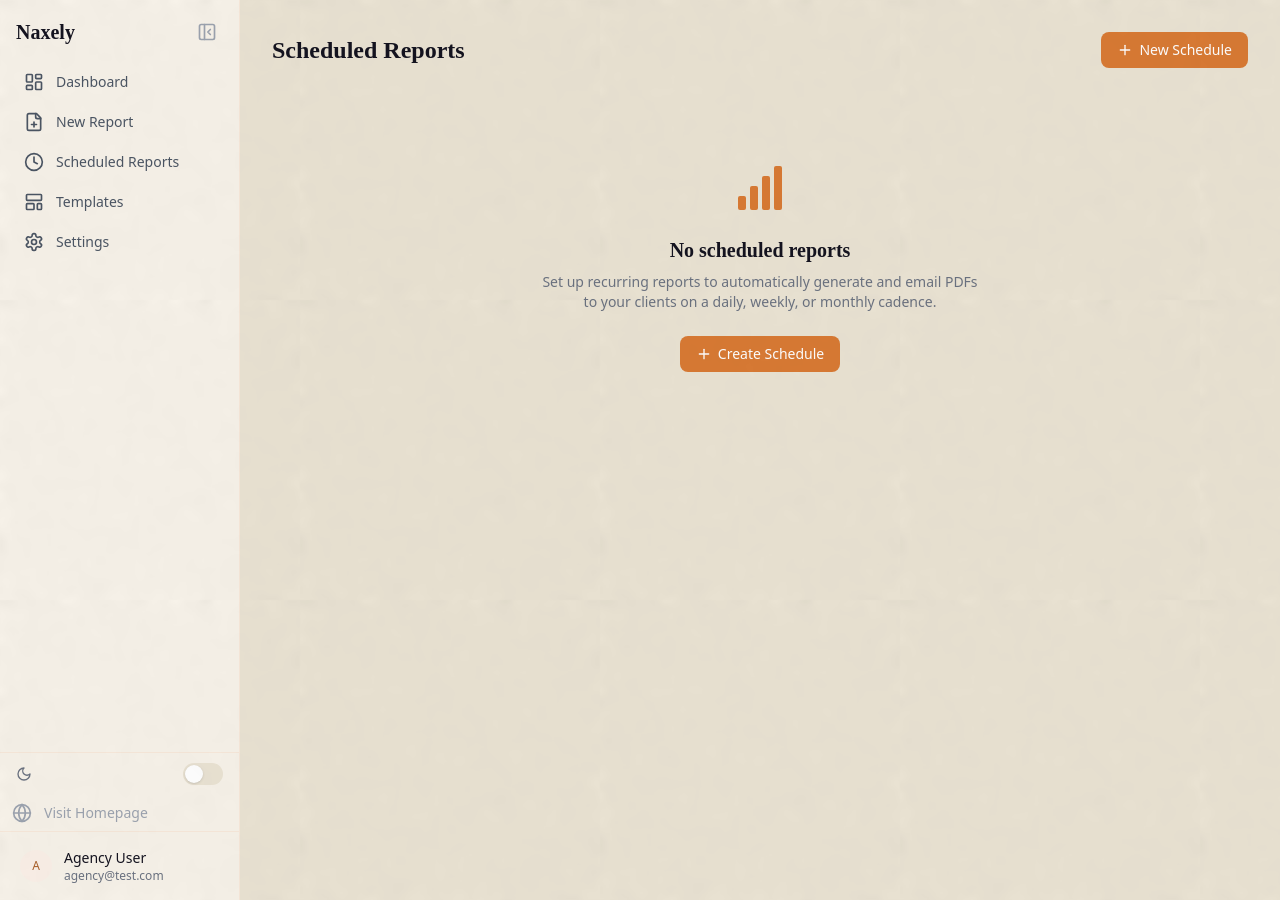
Test case: ScheduledReports › validates email format in create form
The width and height of the screenshot is (1280, 900).
Click the button "Create Schedule" at {"x": 760, "y": 354}, box [680, 336, 840, 372]
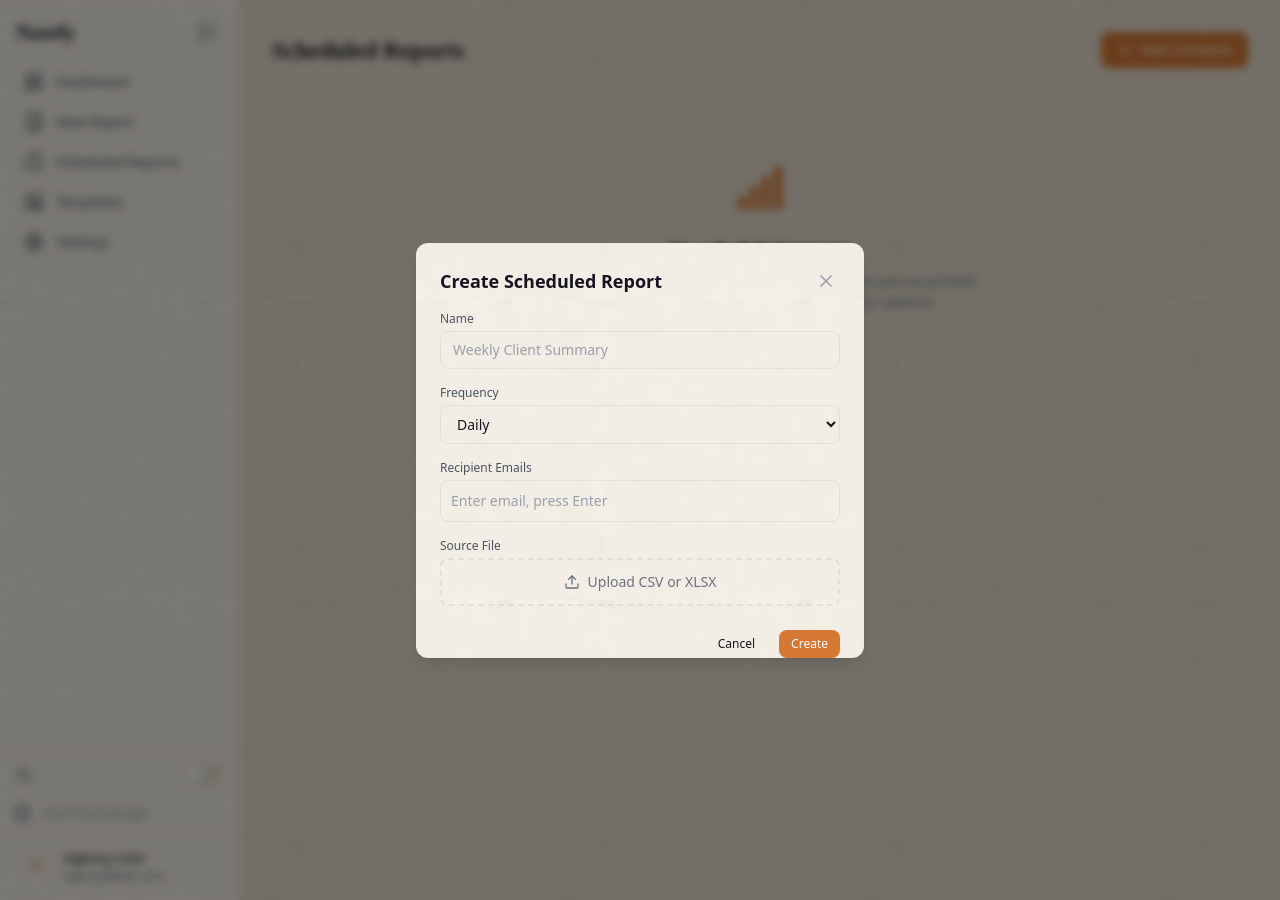
Expected: the heading "Create Scheduled Report" is shown, [440, 266, 662, 294]
Type "not-an-email" into the field with placeholder "Enter email, press Enter" at {"x": 640, "y": 500}, box [447, 486, 833, 514]
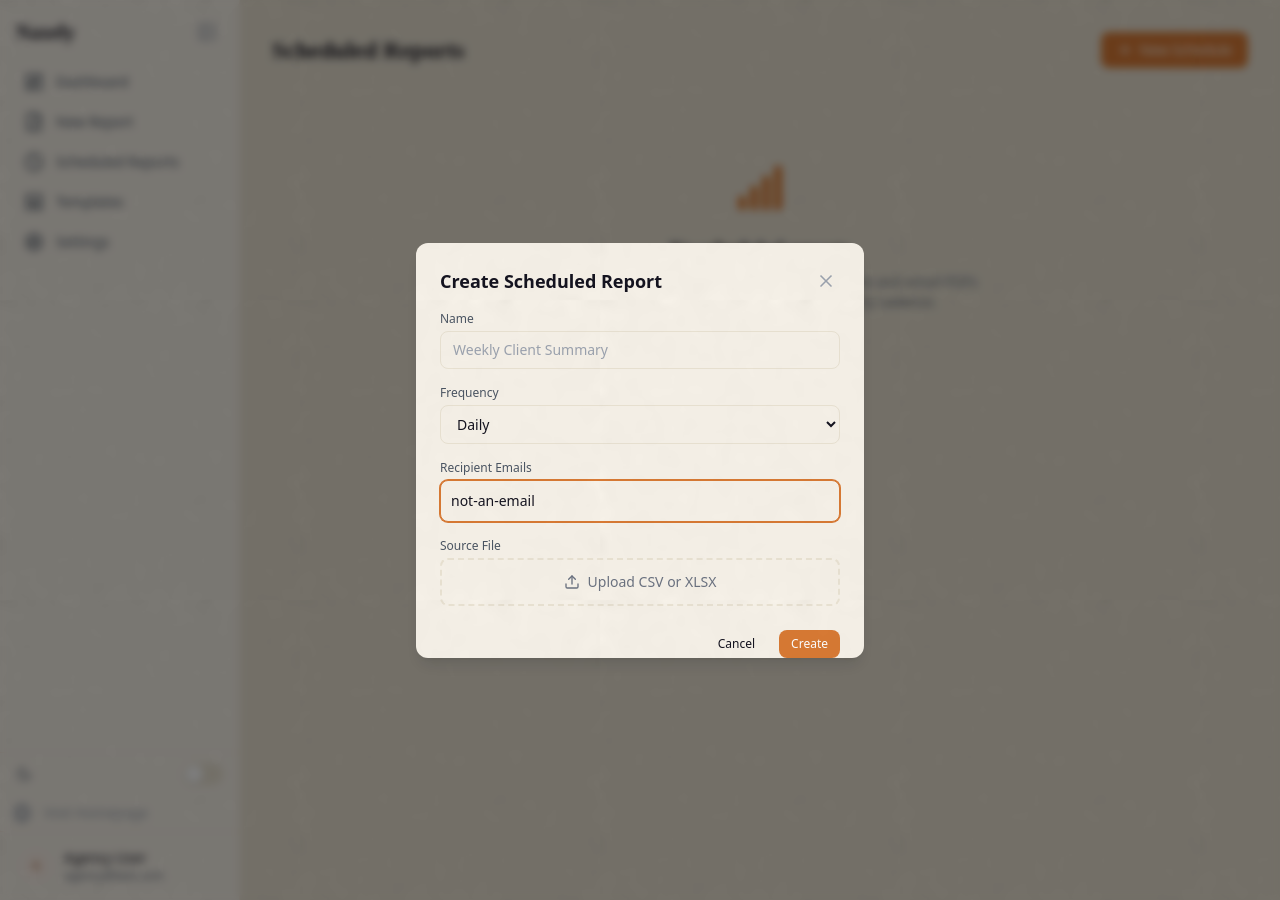
Press Enter
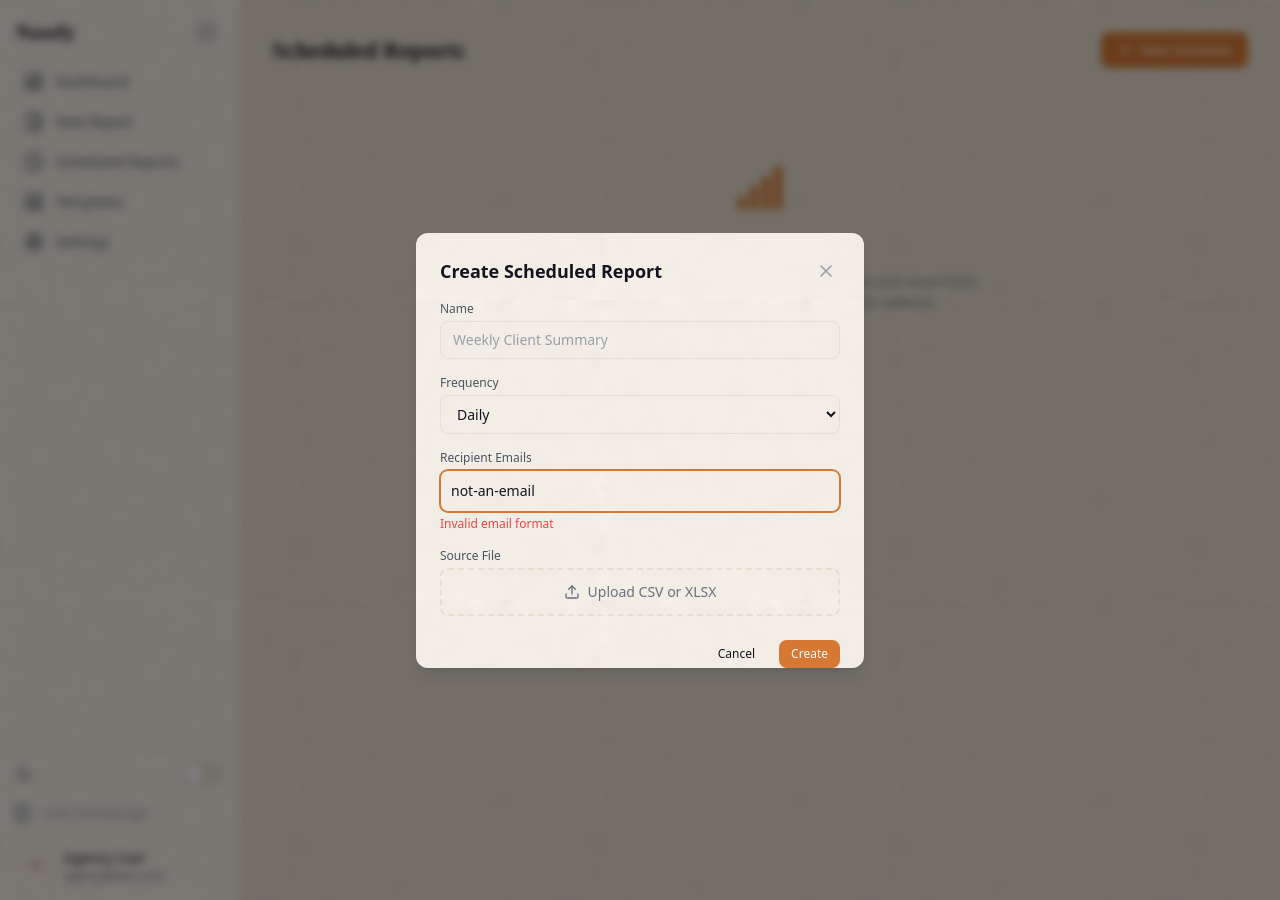
Expected: the text "Invalid email format" is shown, [440, 514, 554, 532]
